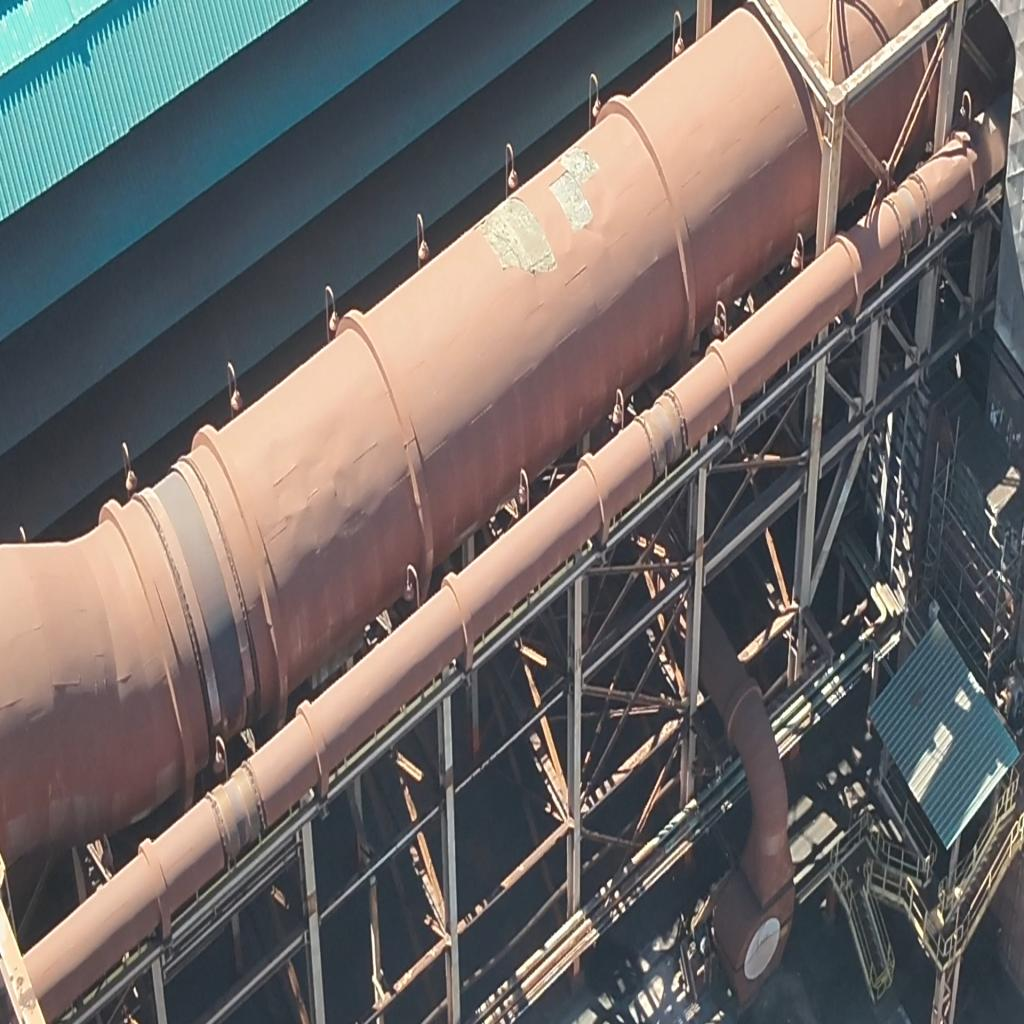Failures: (478, 195, 555, 274), (550, 172, 593, 236), (558, 149, 601, 187)
